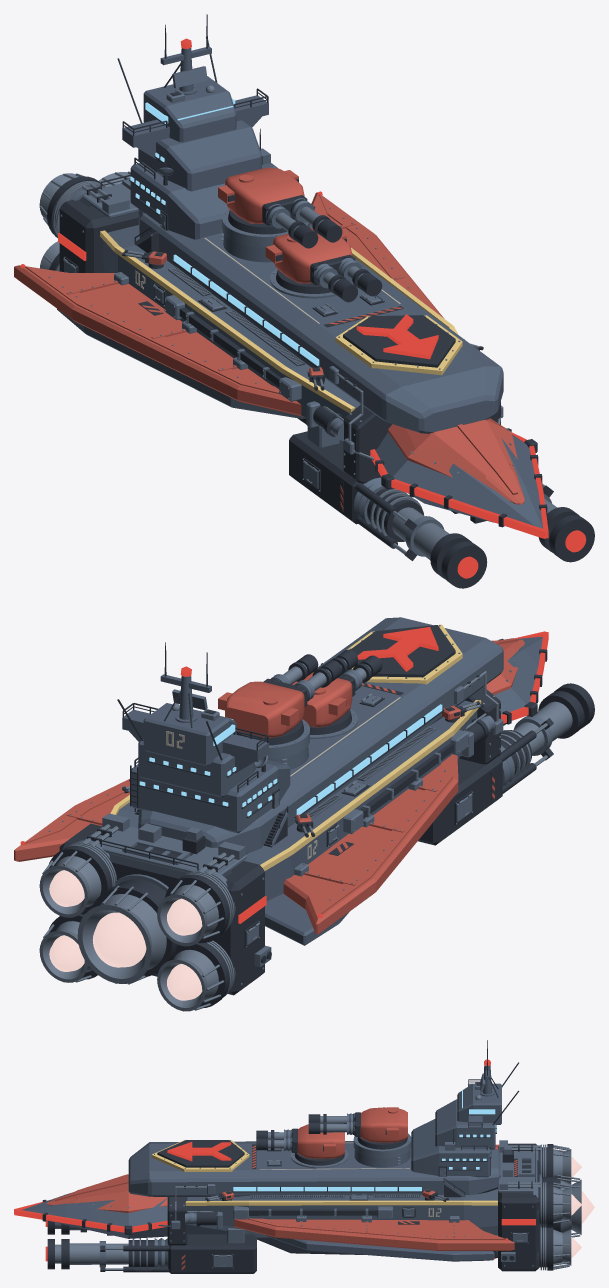
File: vanguard_wreck.glb
3 renders of one model, top to bottom at view 1: azimuth 30°, elevation 25°; view 2: azimuth 150°, elevation 25°; view 3: azimuth 270°, elevation 25°, orthographic. The views are drawn at different scales.
Visible parts, largest first — view 1: vanguard_wreck_05, vanguard_wreck_02, vanguard_wreck_10, vanguard_wreck_13, vanguard_wreck_03, vanguard_wreck_08, vanguard_wreck_01, vanguard_wreck_15, vanguard_wreck_07, vanguard_wreck_11, vanguard_wreck_06, vanguard_wreck_04 (+2 smaller); view 2: vanguard_wreck_01, vanguard_wreck_00, vanguard_wreck_05, vanguard_wreck_02, vanguard_wreck_13, vanguard_wreck_10, vanguard_wreck_14, vanguard_wreck_07, vanguard_wreck_08, vanguard_wreck_15, vanguard_wreck_09, vanguard_wreck_03 (+3 smaller); view 3: vanguard_wreck_04, vanguard_wreck_03, vanguard_wreck_06, vanguard_wreck_14, vanguard_wreck_00, vanguard_wreck_09, vanguard_wreck_12, vanguard_wreck_05, vanguard_wreck_15, vanguard_wreck_11, vanguard_wreck_13, vanguard_wreck_08 (+2 smaller).
Boxes of the visible parts, box(x1,y1,x2,y2) form: vanguard_wreck_05: box(117, 14, 276, 225); vanguard_wreck_02: box(166, 222, 326, 408); vanguard_wreck_10: box(50, 215, 223, 385); vanguard_wreck_13: box(239, 290, 422, 432); vanguard_wreck_03: box(386, 330, 538, 466); vanguard_wreck_08: box(393, 448, 548, 588); vanguard_wreck_01: box(14, 173, 159, 330); vanguard_wreck_15: box(225, 179, 379, 311); vanguard_wreck_07: box(314, 397, 429, 549); vanguard_wreck_11: box(511, 464, 594, 562); vanguard_wreck_06: box(344, 271, 483, 350); vanguard_wreck_04: box(213, 168, 434, 306); vanguard_wreck_01: box(180, 805, 355, 1011); vanguard_wreck_00: box(39, 839, 183, 1010); vanguard_wreck_05: box(117, 642, 298, 813); vanguard_wreck_02: box(299, 697, 458, 833); vanguard_wreck_13: box(364, 636, 502, 779); vanguard_wreck_10: box(270, 764, 423, 925); vanguard_wreck_14: box(67, 754, 225, 856); vanguard_wreck_07: box(457, 648, 539, 820); vanguard_wreck_08: box(491, 631, 594, 763); vanguard_wreck_15: box(246, 649, 380, 730); vanguard_wreck_09: box(14, 794, 114, 861); vanguard_wreck_03: box(347, 617, 503, 678); vanguard_wreck_04: box(318, 1114, 431, 1258); vanguard_wreck_03: box(84, 1142, 204, 1272); vanguard_wreck_06: box(201, 1142, 320, 1251); vanguard_wreck_14: box(422, 1134, 533, 1234); vanguard_wreck_00: box(494, 1150, 594, 1271); vanguard_wreck_09: box(412, 1201, 535, 1271); vanguard_wreck_12: box(151, 1197, 266, 1273); vanguard_wreck_05: box(387, 1040, 519, 1148); vanguard_wreck_15: box(256, 1107, 388, 1175); vanguard_wreck_11: box(27, 1200, 136, 1272); vanguard_wreck_13: box(150, 1140, 270, 1159); vanguard_wreck_08: box(14, 1180, 108, 1234).
Bounding box in the file's own units: 4.4 × 4.47 × 11.09.
